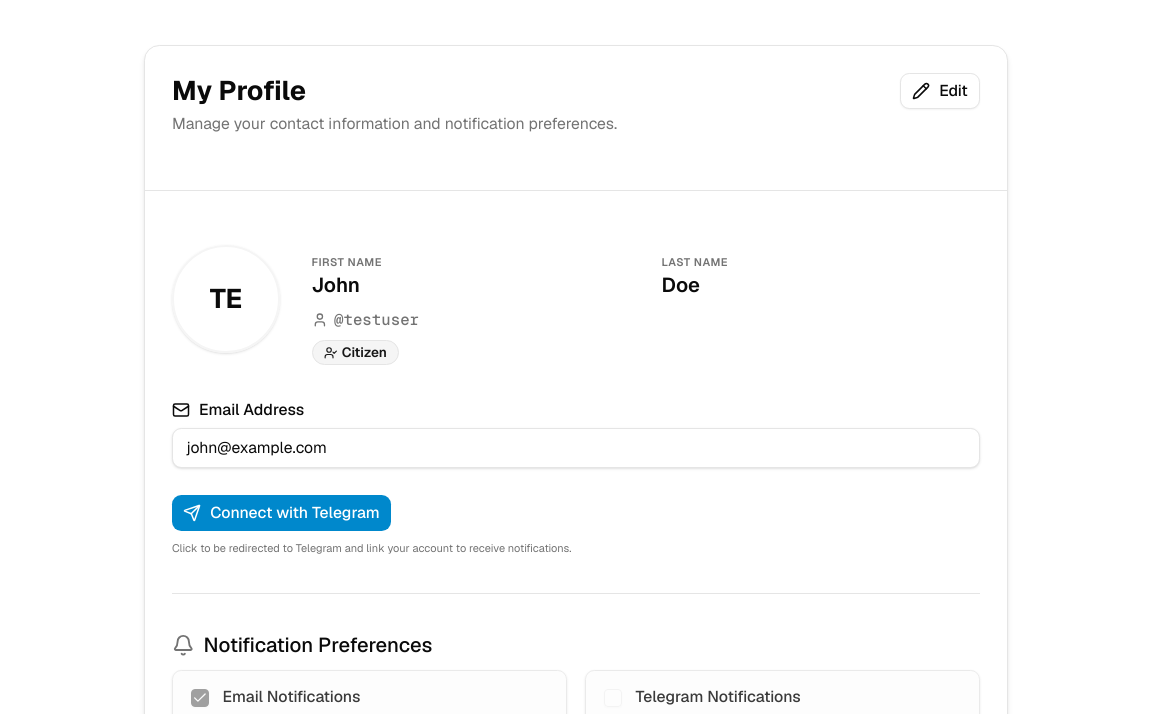
Test: ProfilePage › should enable edit mode when Edit button is clicked
Click the button "Edit": (940, 91) [900,73,980,109]
(page scrolled)
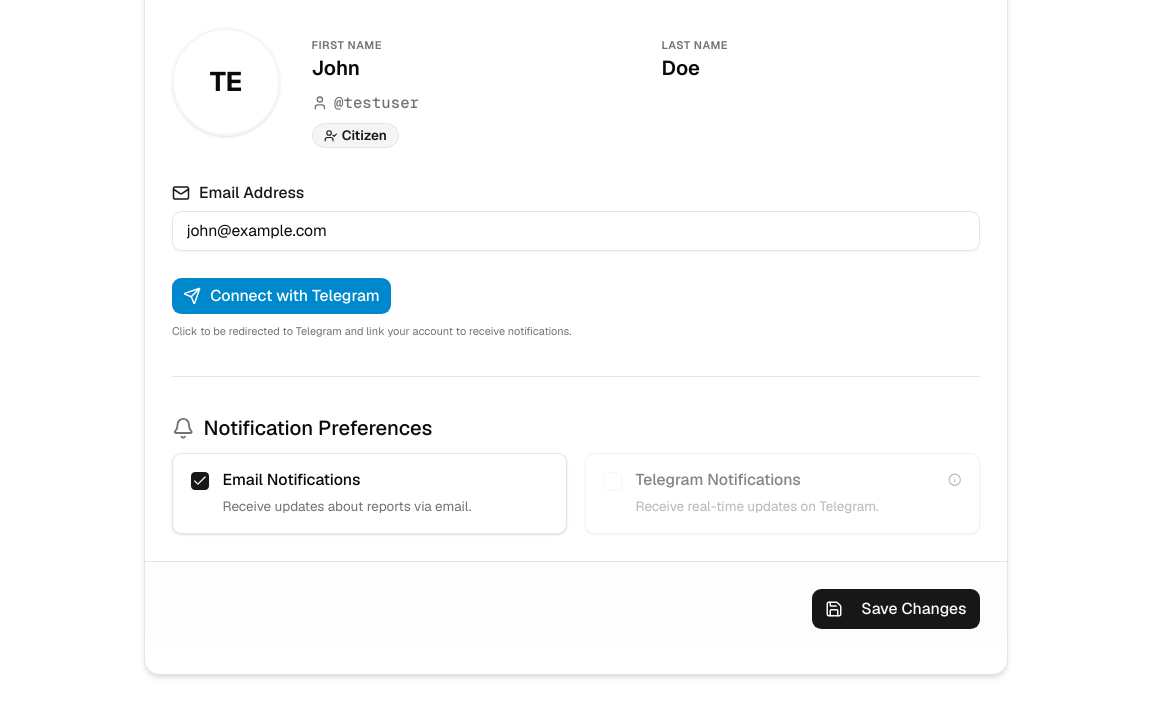
Now the button "Save Changes" is shown, box [812,589,980,630]
